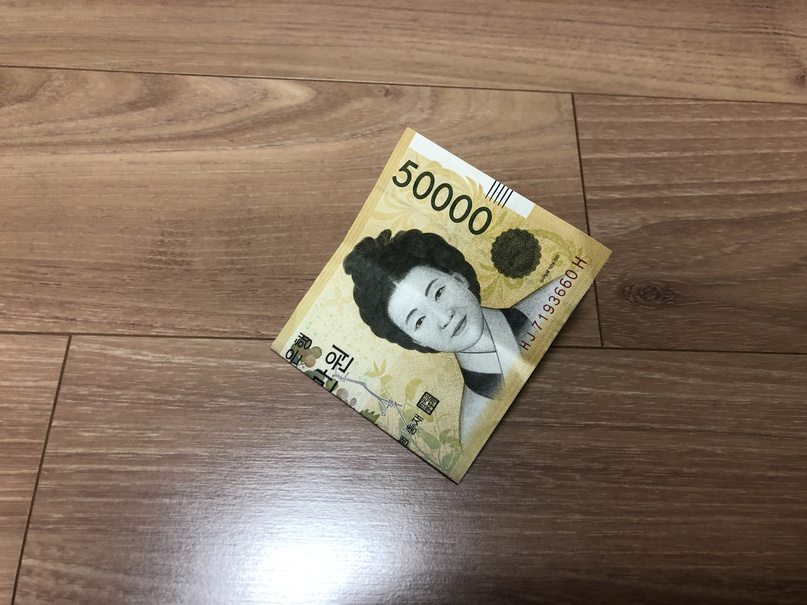50000won: (268, 127, 612, 485)
